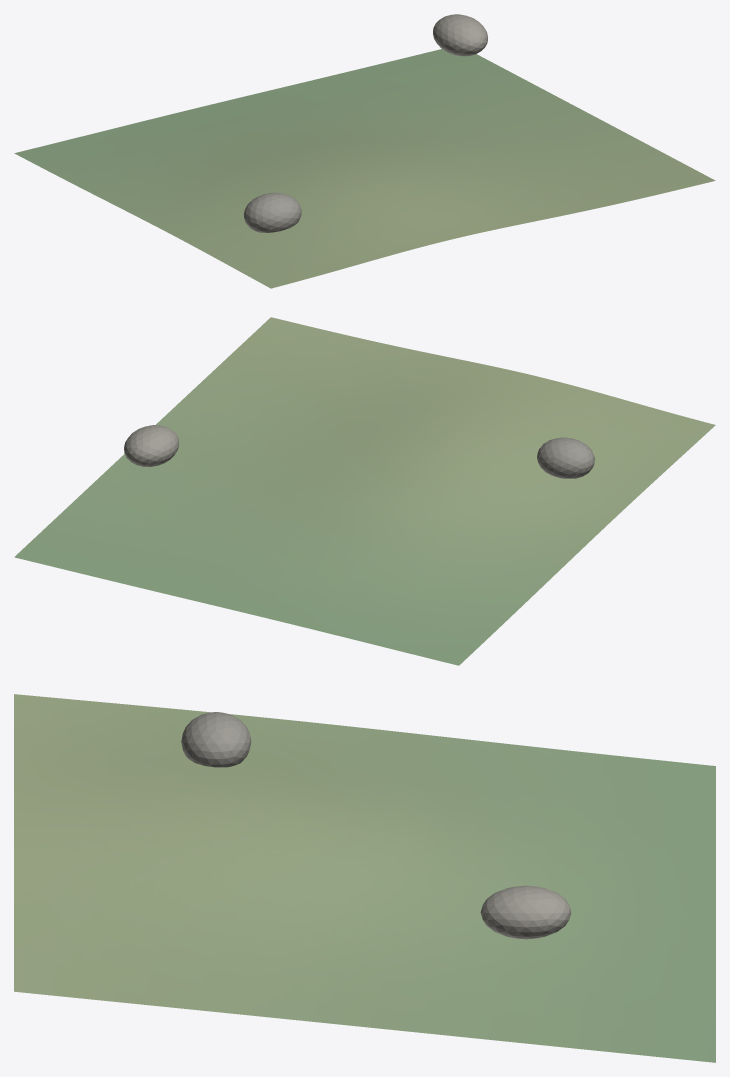
The model's file is hilly-terrain.glb.
3 views of the same model, one above another, from view 1: azimuth 30°, elevation 25°; view 2: azimuth 150°, elevation 25°; view 3: azimuth 270°, elevation 25° (orthographic). The views are drawn at different scales.
Parts seen in each view (by area): view 1: Ground, Obstacle_Hill_Rock_A, Obstacle_Hill_Rock_B; view 2: Ground, Obstacle_Hill_Rock_A, Obstacle_Hill_Rock_B; view 3: Ground, Obstacle_Hill_Rock_B, Obstacle_Hill_Rock_A.
Part boxes in pixels (x1,y1,x2,y2): Ground: [14, 49, 715, 288]; Obstacle_Hill_Rock_A: [243, 192, 301, 232]; Obstacle_Hill_Rock_B: [433, 14, 487, 56]; Ground: [14, 317, 715, 665]; Obstacle_Hill_Rock_A: [537, 437, 594, 478]; Obstacle_Hill_Rock_B: [124, 425, 179, 467]; Ground: [14, 694, 715, 1062]; Obstacle_Hill_Rock_B: [480, 885, 571, 939]; Obstacle_Hill_Rock_A: [181, 712, 251, 767].
Size of the model in its own units: 3.4 by 0.6815 by 3.4.
